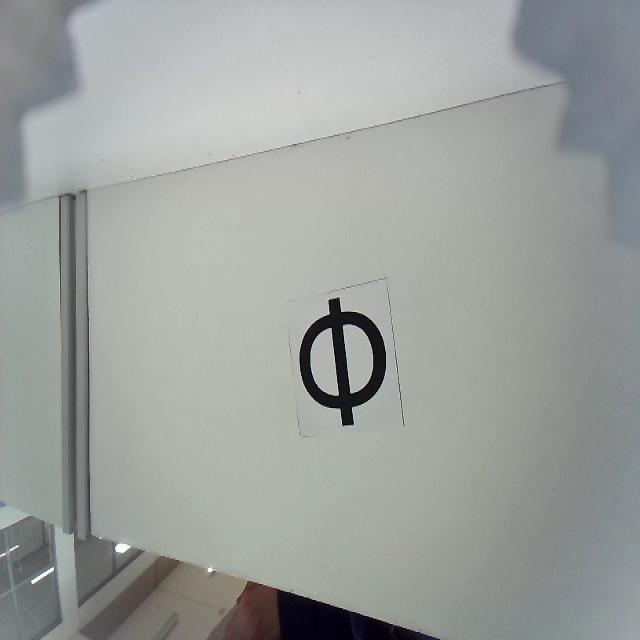F: (300, 295, 388, 425)
